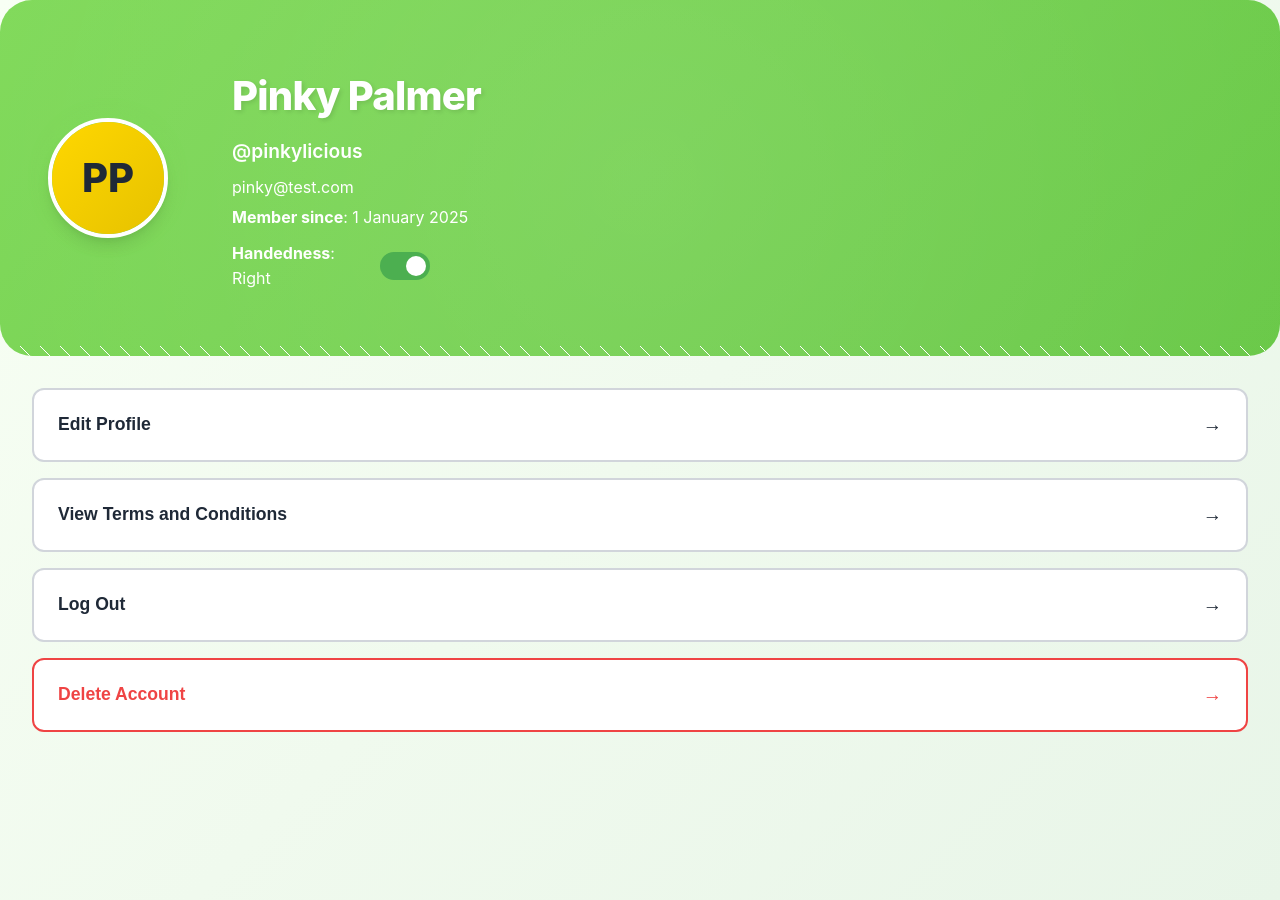
Test: UserProfile › opens and closes edit profile form
This screenshot has width=1280, height=900.
Click the button "Edit Profile →": (104, 424) x1=32 y1=388 x2=1248 y2=462
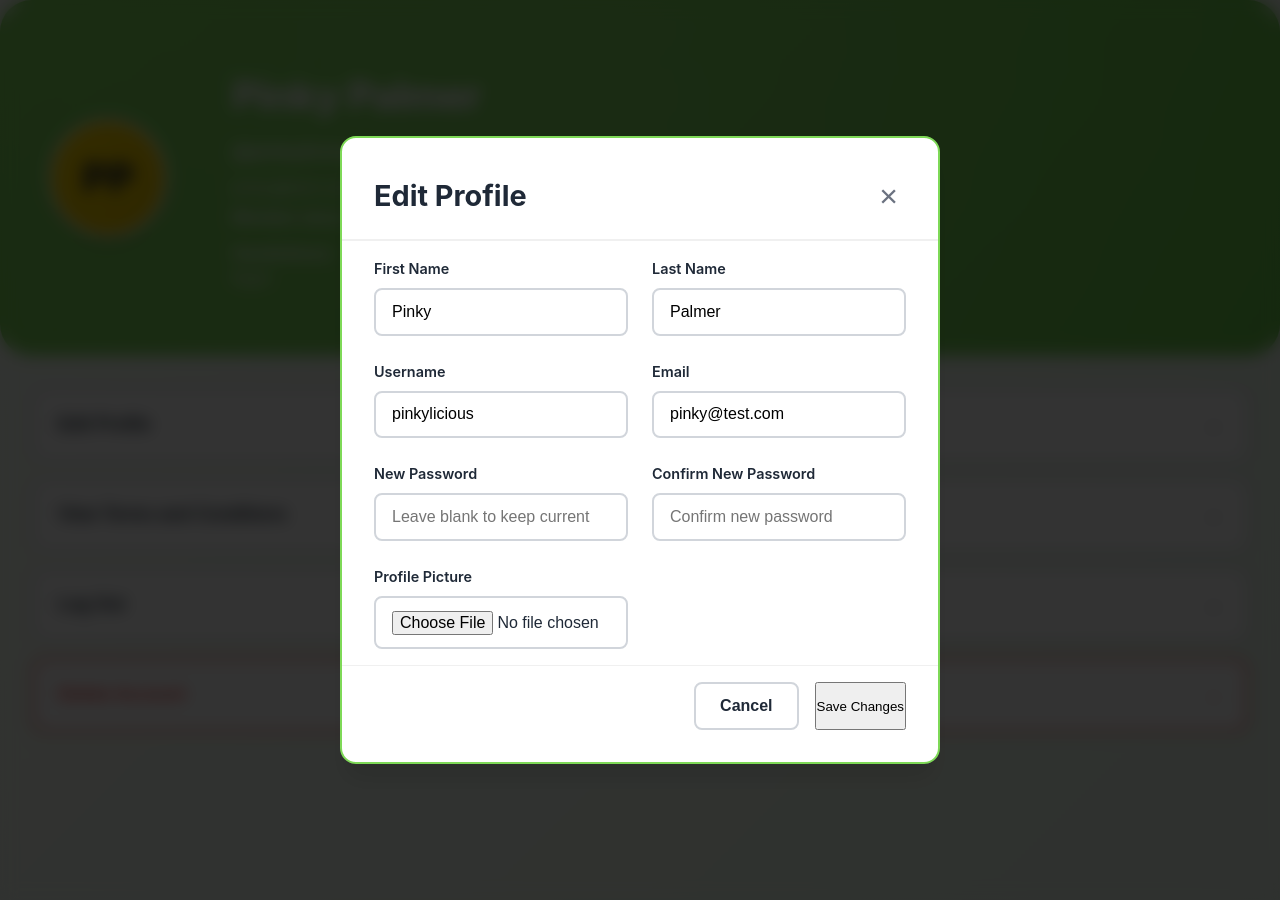
Expected: the field labelled "First Name" is shown, x1=374 y1=288 x2=628 y2=336
Expected: the field labelled "Last Name" is shown, x1=652 y1=288 x2=906 y2=336
Expected: the field labelled "Username" is shown, x1=374 y1=391 x2=628 y2=438
Click the button named "Close edit form": (889, 196) x1=871 y1=170 x2=906 y2=223
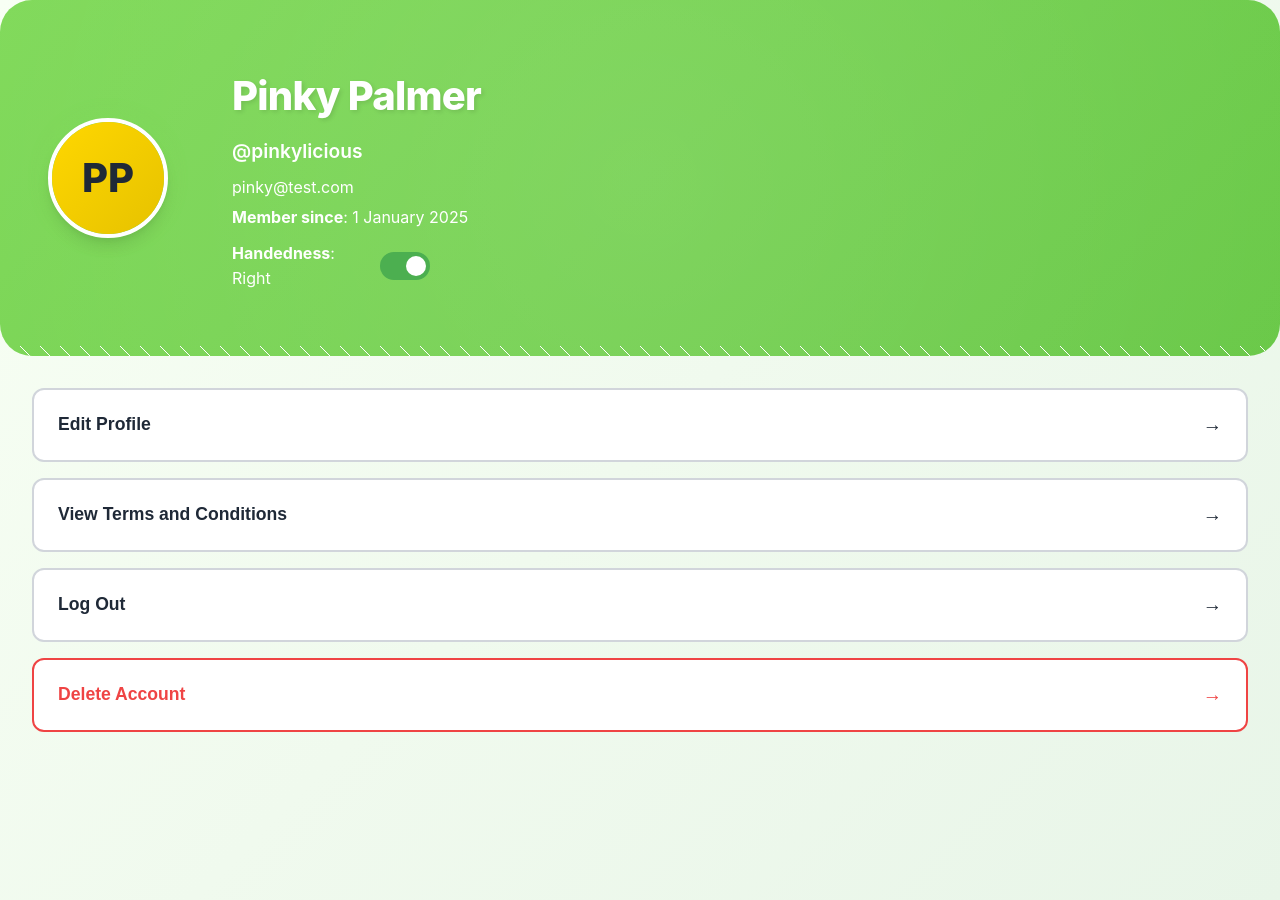
Expected: the label labelled "First Name" is gone
